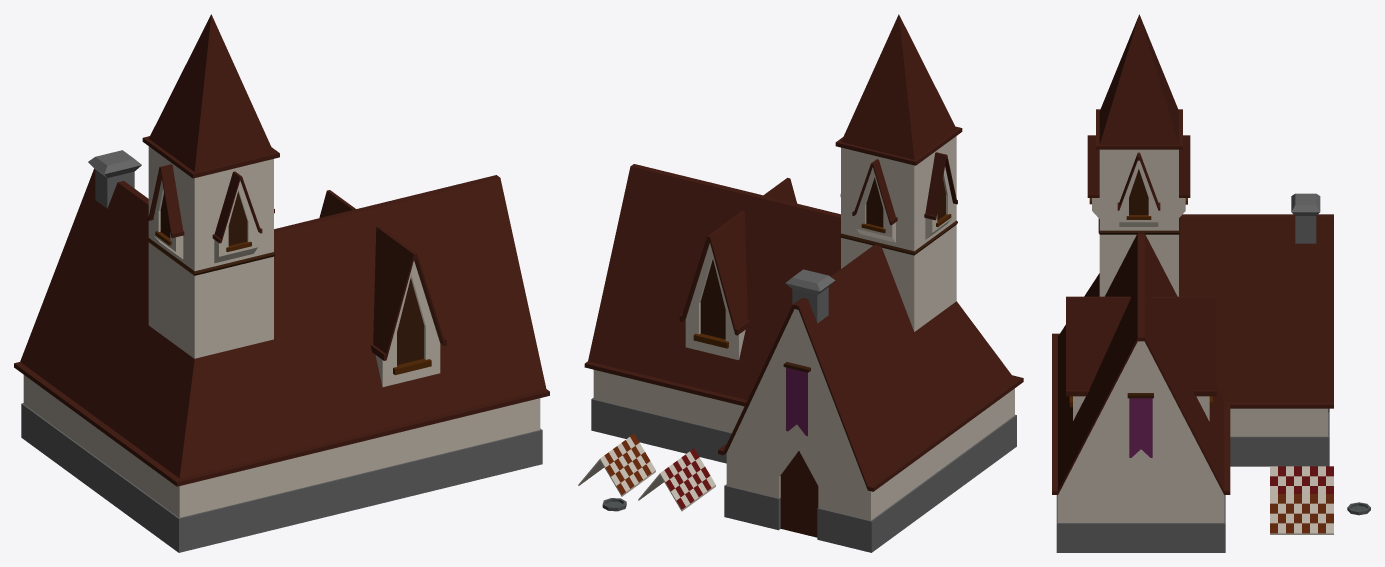
Rendered from HospitalV1.fbx.
3 renders of one model, left to right at view 1: azimuth 30°, elevation 25°; view 2: azimuth 150°, elevation 25°; view 3: azimuth 270°, elevation 25°, orthographic. The views are drawn at different scales.
Visible parts, largest first — view 1: Plane.159; view 2: Plane.159; view 3: Plane.159.
Part boxes in pixels (<box>): Plane.159: <box>14,14,549,552</box>; Plane.159: <box>578,14,1023,552</box>; Plane.159: <box>1052,14,1370,552</box>.
Size of the model in its own units: 247 by 308 by 211.
